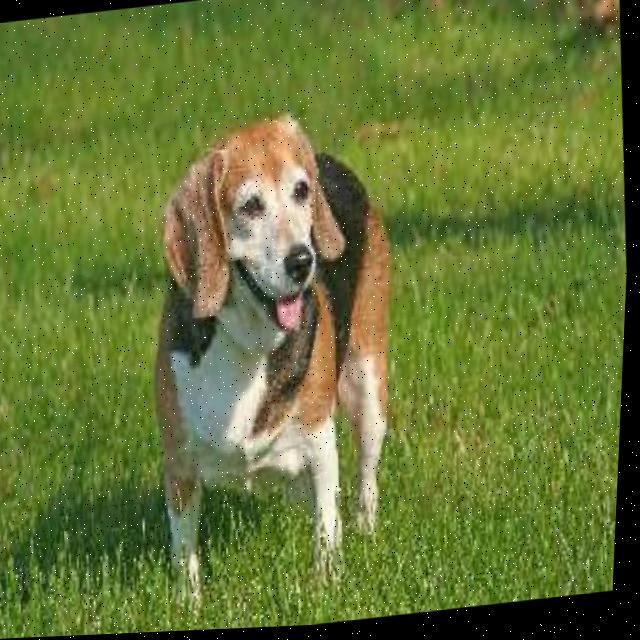dogs: (122, 91, 425, 633)
